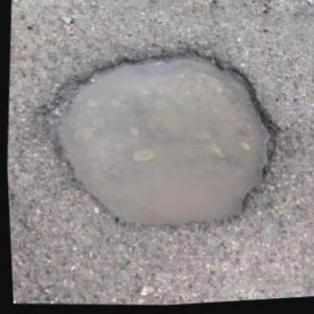Hueco: (26, 35, 290, 247)
